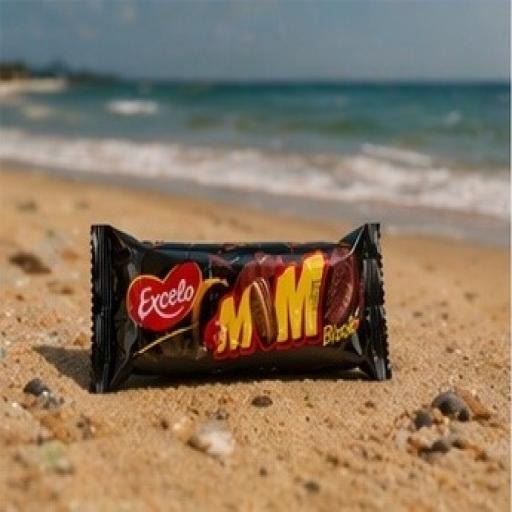MOMO: (42, 159, 428, 446)
